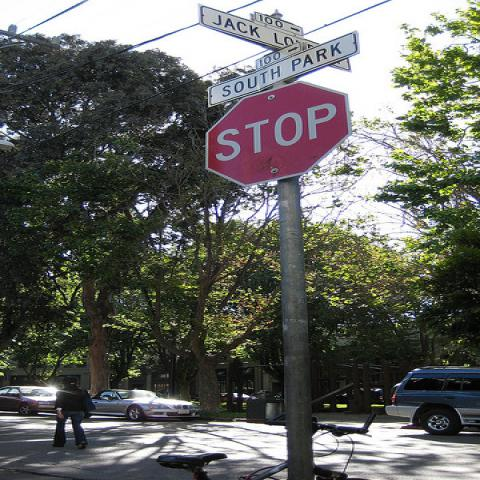car: (385, 366, 479, 436), (85, 389, 205, 422), (1, 387, 58, 415), (220, 392, 258, 402)
truck: (384, 364, 479, 436)
